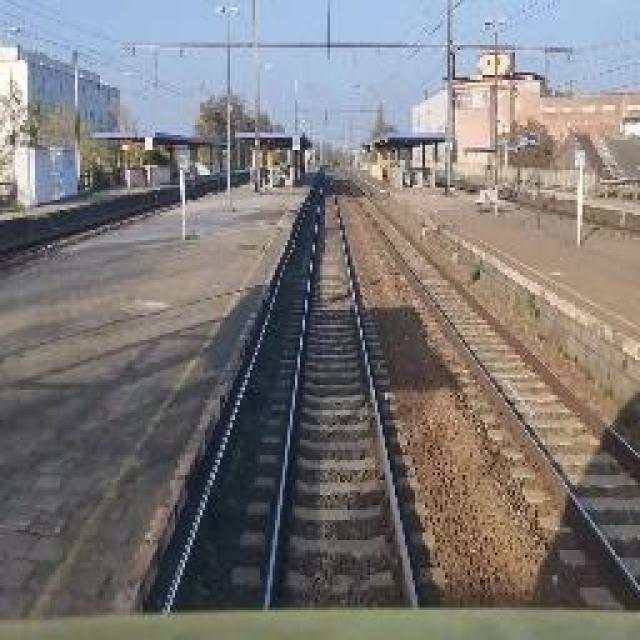rail: (334, 175, 640, 612), (220, 161, 448, 615)
